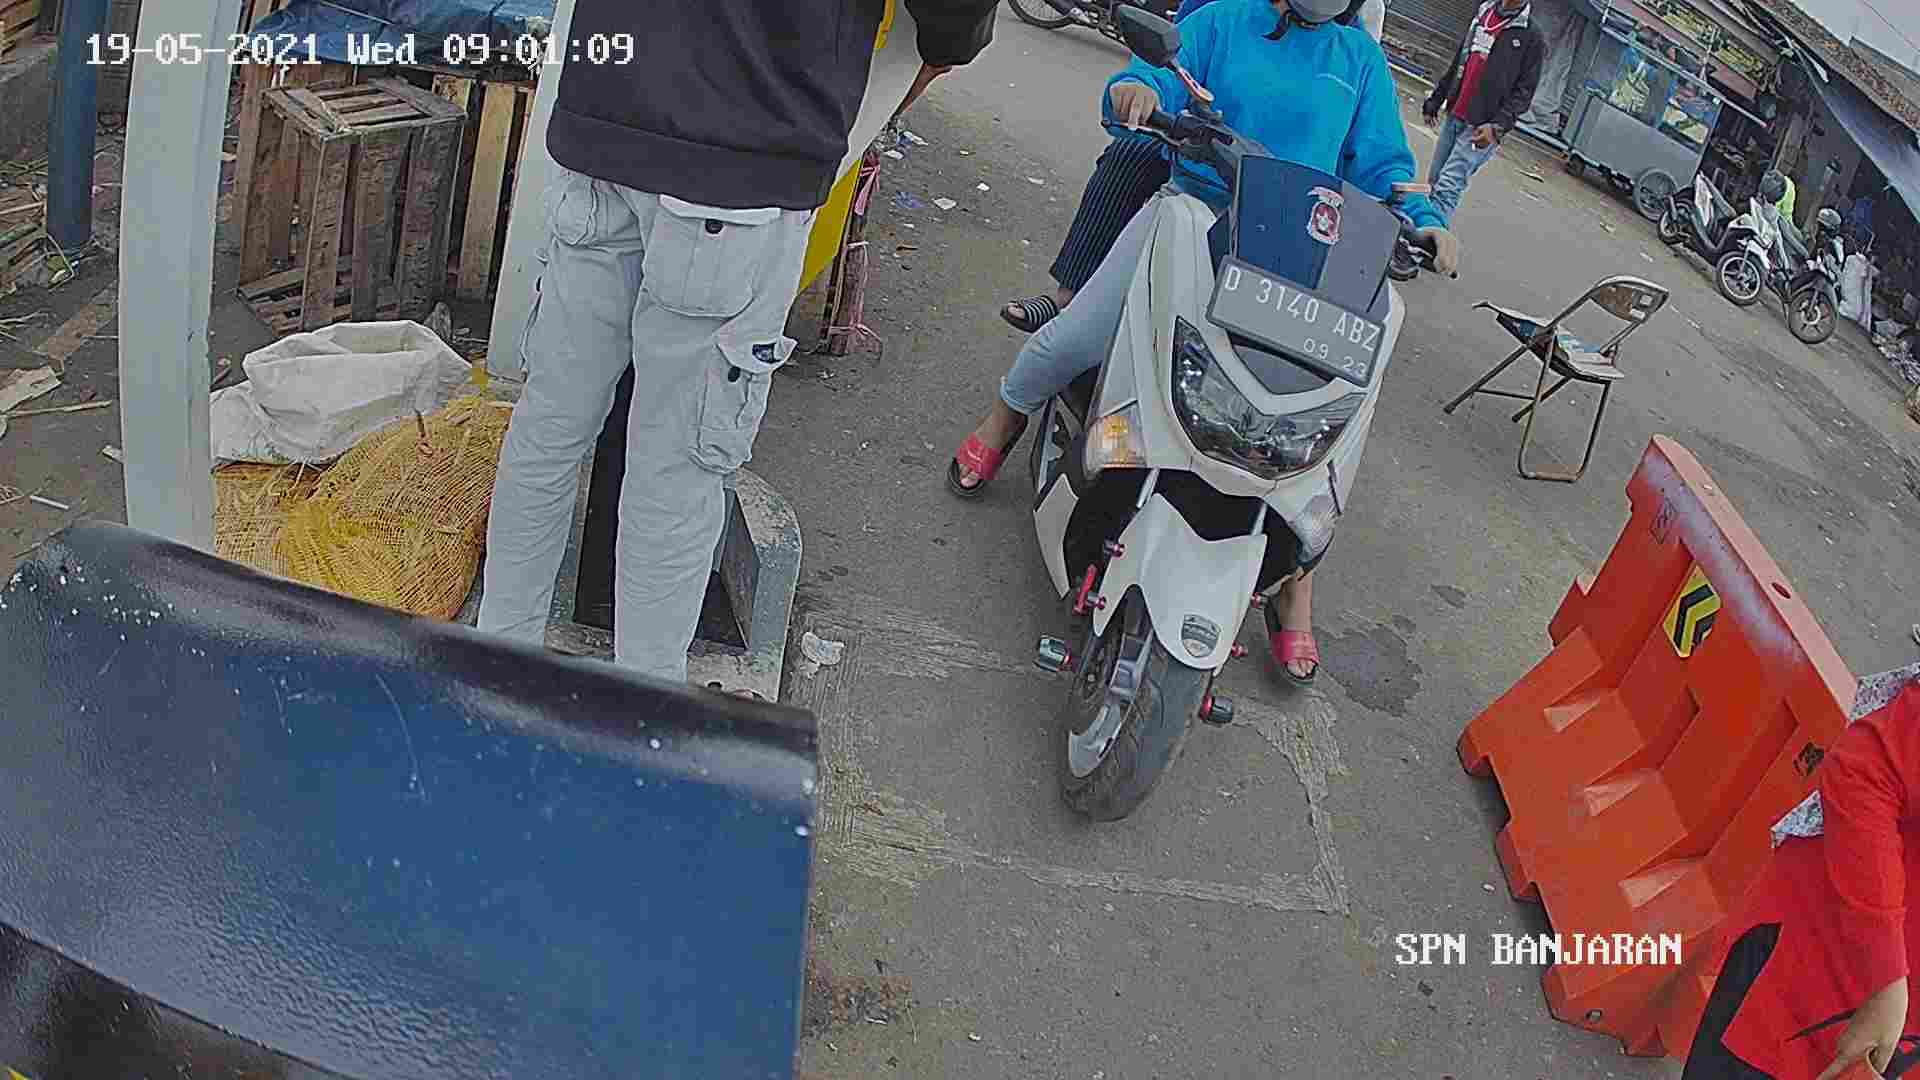motor: (975, 88, 1408, 820)
